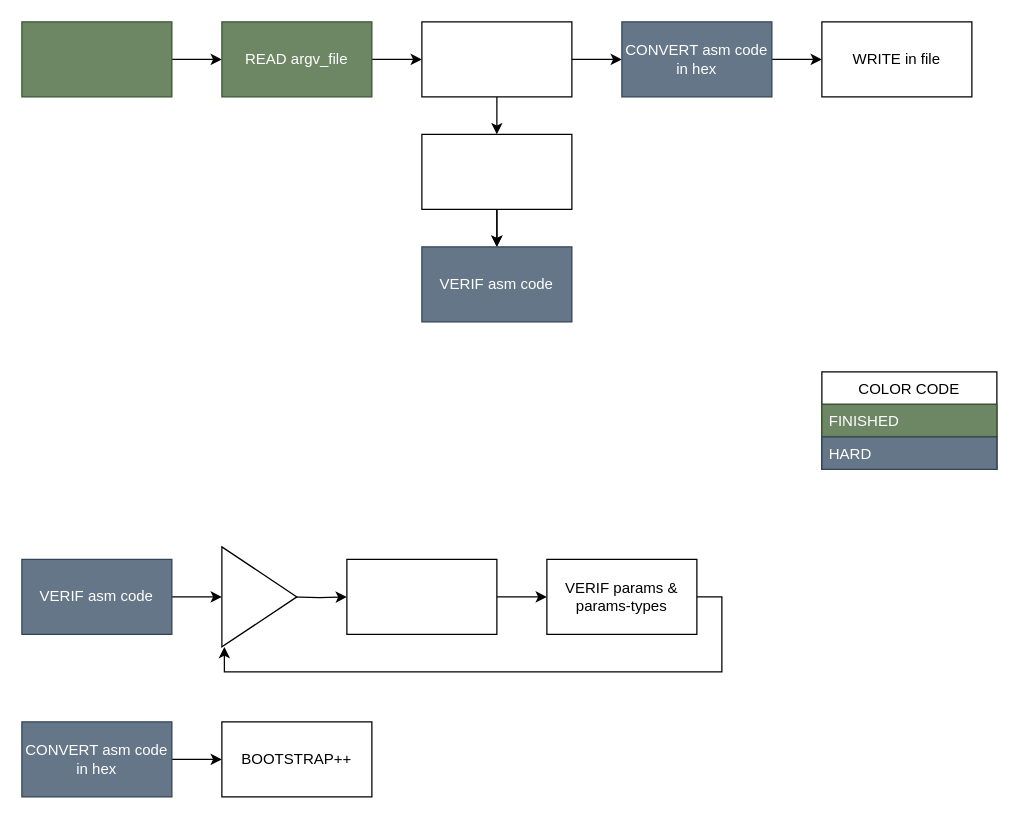
The diagram is 1019 pixels wide and 819 high, and some of its shapes have lost their labels. Here are the shapes that lost their labels. From the top down, the centre of each, then its label:
At (96,59): "PARSING".
At (496,59): "VERIF file".
At (496,171): "VERIF name & header".
At (259,596): "loop".
At (421,596): "VERIF func".
